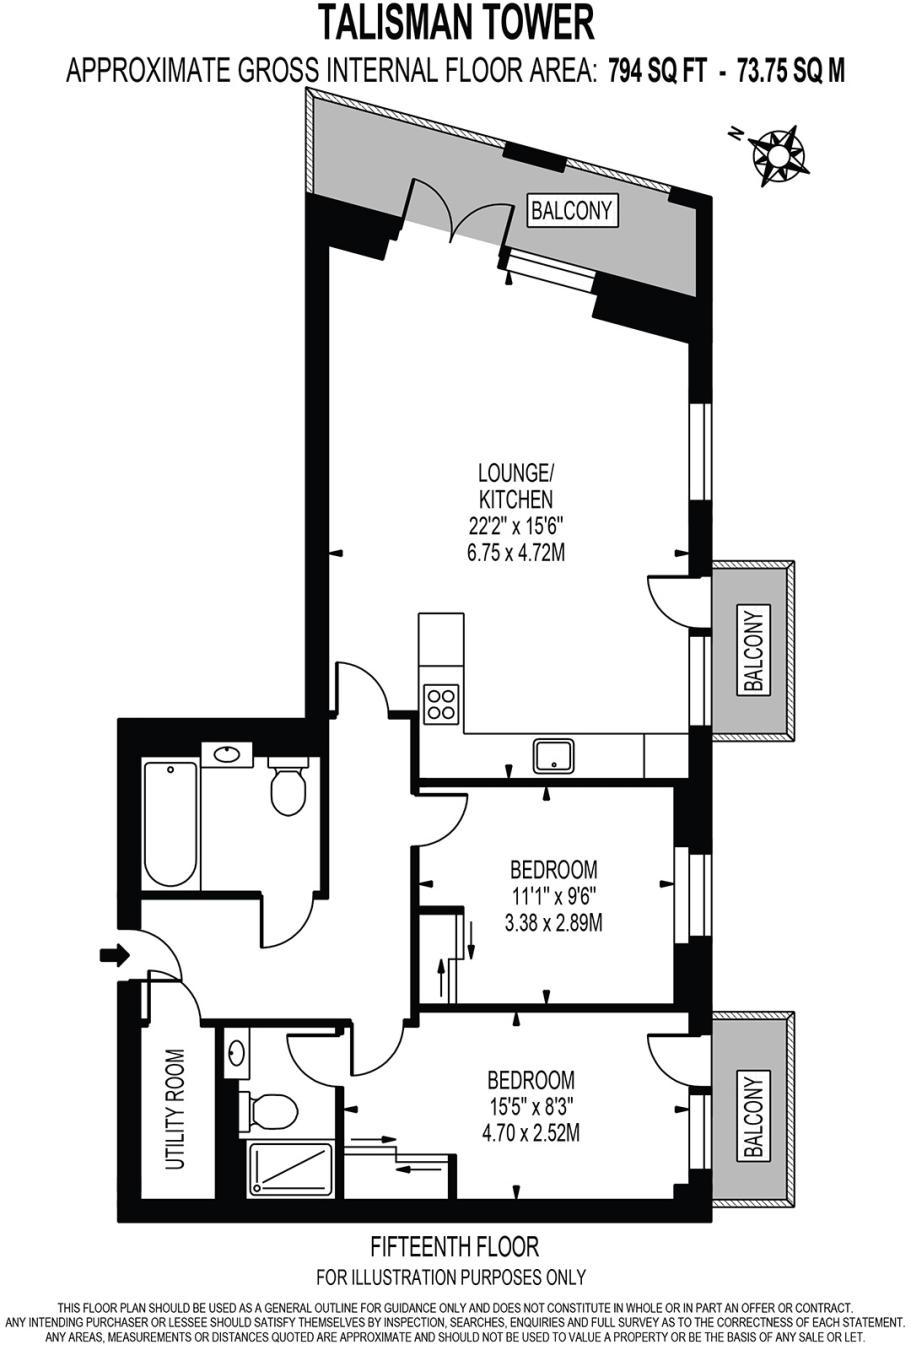door: (407, 176, 513, 243), (621, 566, 700, 633), (331, 649, 407, 717), (417, 788, 478, 851), (633, 1025, 694, 1088), (251, 904, 317, 953), (288, 1027, 339, 1084), (347, 1037, 411, 1078)
window: (687, 630, 714, 721), (691, 405, 710, 500), (691, 850, 710, 936), (693, 1092, 708, 1173), (691, 1090, 706, 1171)
